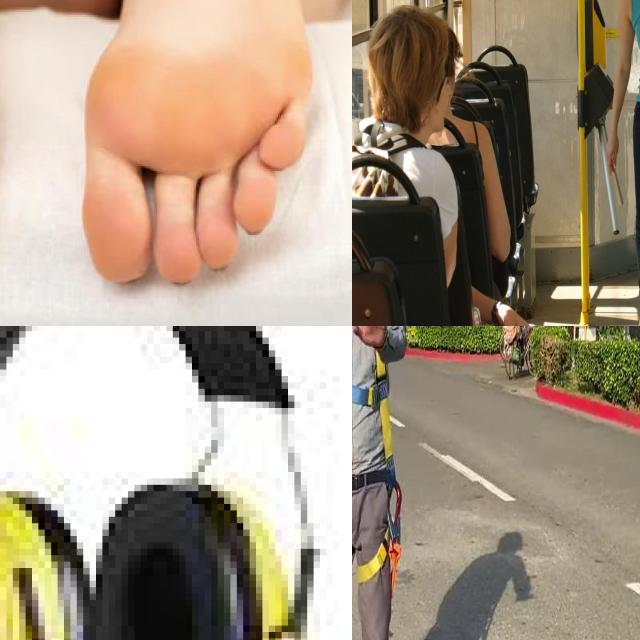Barefoots: (68, 0, 328, 310)
Ear-protection: (89, 472, 300, 640), (0, 478, 89, 640)
Harness: (357, 480, 403, 590), (352, 350, 393, 462)
